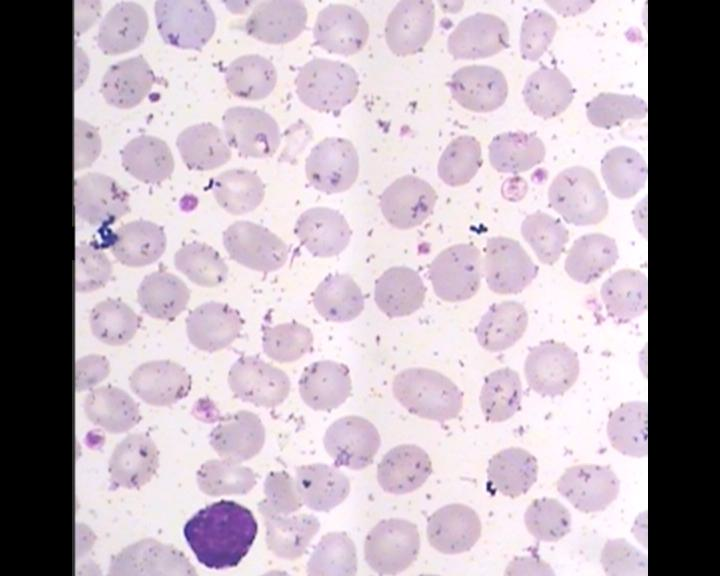baso: (179, 499, 261, 571)
